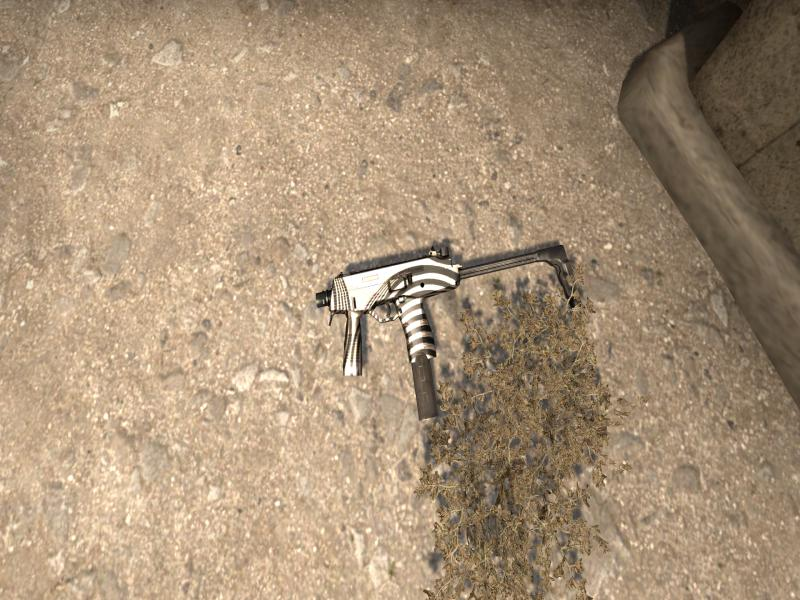MP9: (315, 243, 576, 419)
